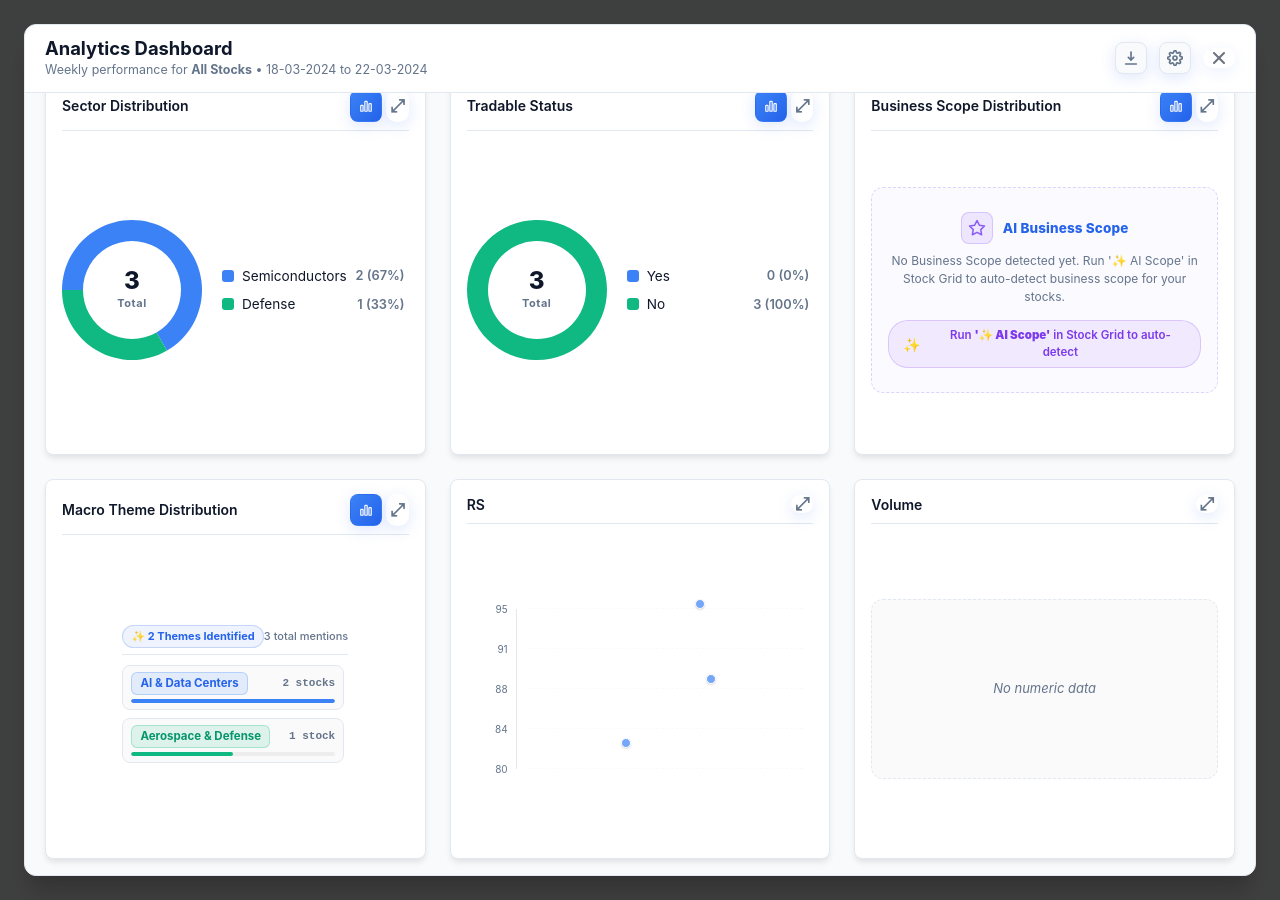
Test: AnalyticsDashboard › aggregates Macro Themes correctly and displays them in distribution and expanded view
The width and height of the screenshot is (1280, 900).
(page scrolled)
Check: the text "AI & Data Centers" is shown, box left=131, top=672, right=248, bottom=695
Check: the text "Aerospace & Defense" is shown, box left=131, top=725, right=270, bottom=748
Note: Test expanding Macro Theme Distribution
Step 1. Click the button with class "expand-btn" next to "Macro Theme Distribution" → point(398, 510), box left=386, top=494, right=409, bottom=526
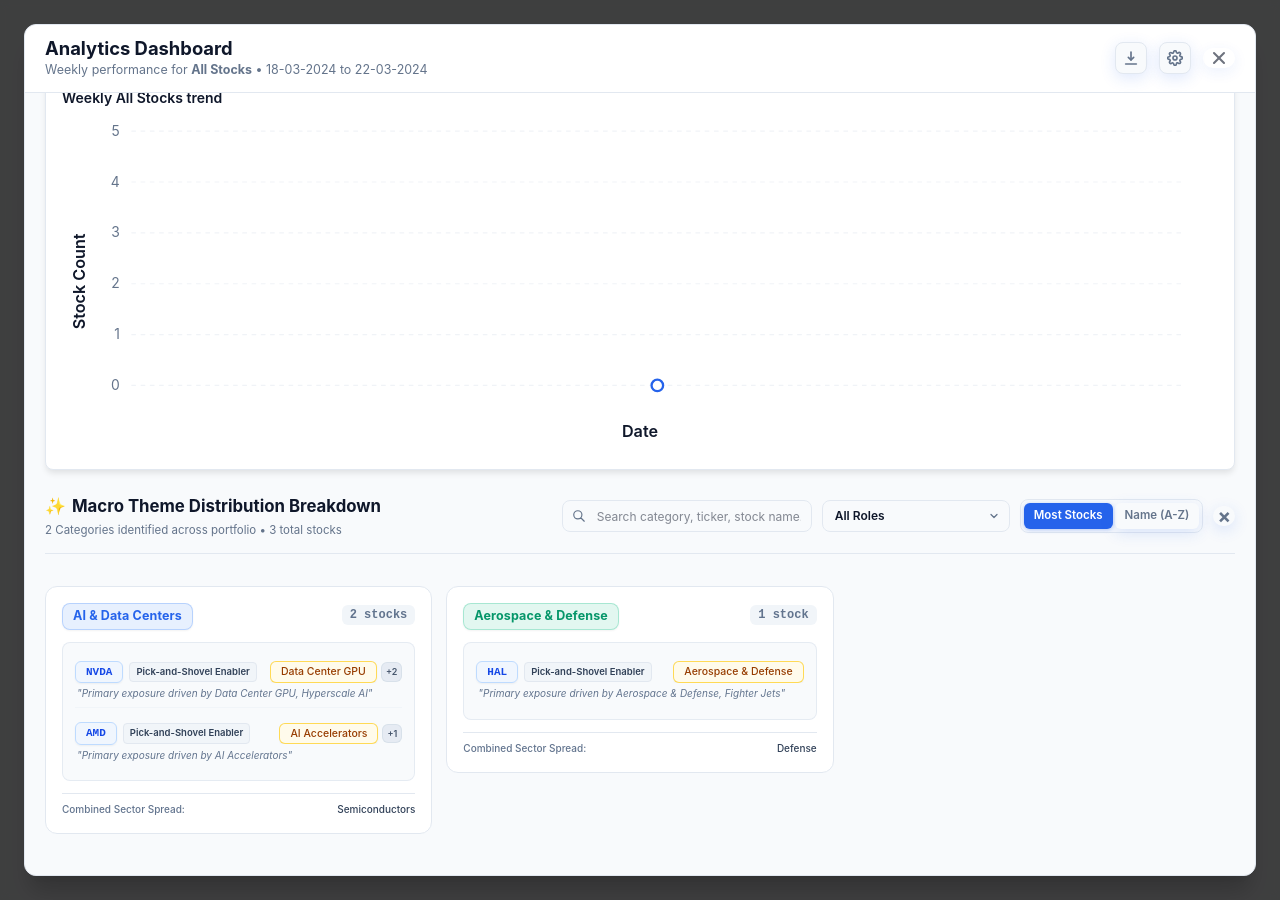
Check: the heading "✨ Macro Theme Distribution Breakdown" is shown, box left=45, top=496, right=381, bottom=516
Check: the text "Data Center GPU" is shown, box left=281, top=664, right=366, bottom=680
